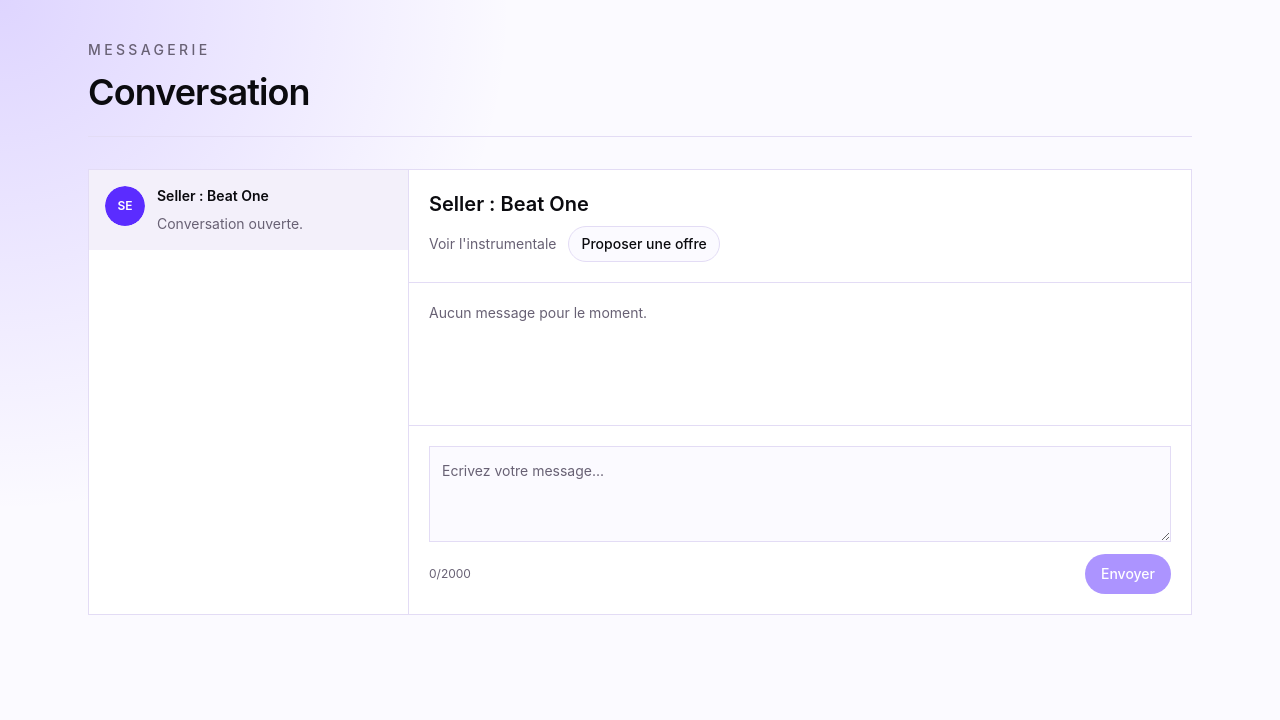
MessagesClient › creates an exclusive offer from a beat conversation
Expected: the heading "Seller : Beat One" is shown, [429,192,589,216]
Click the button "Proposer une offre".
click(644, 244)  # box [568,226,720,262]
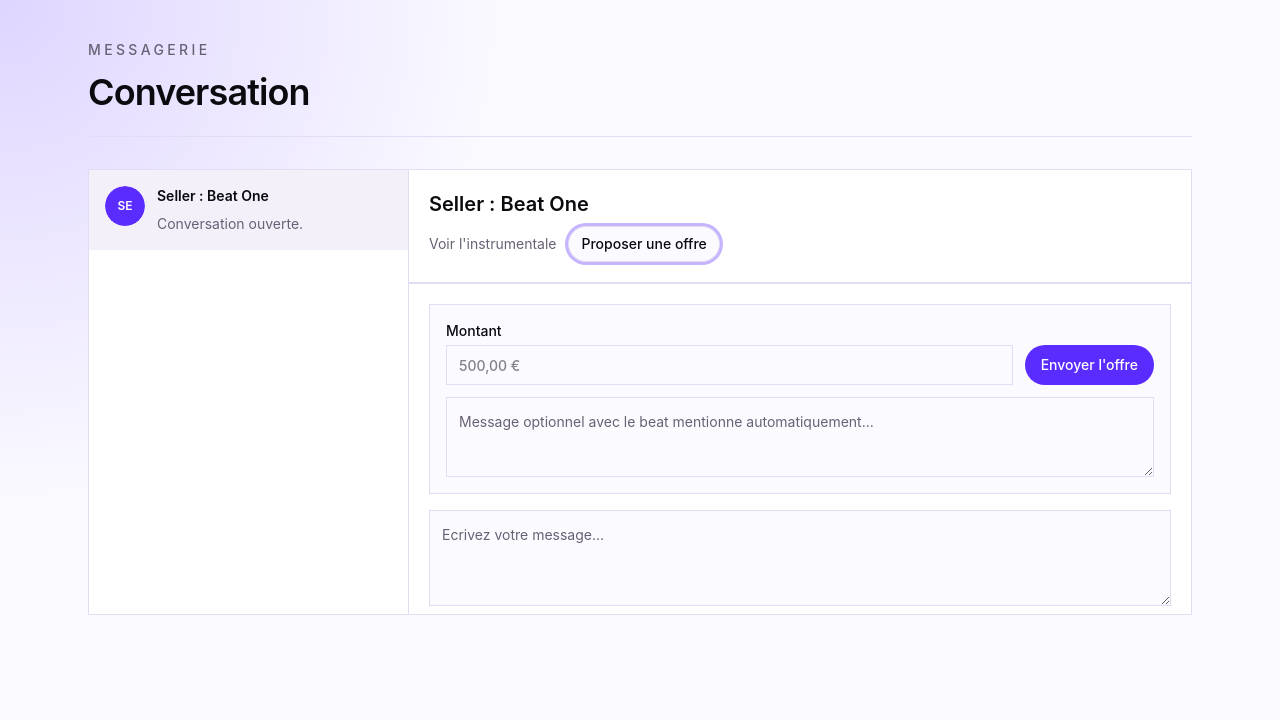
Type "450" into the field labelled "Montant".
click(729, 365); type("450")  # box [446,345,1013,385]
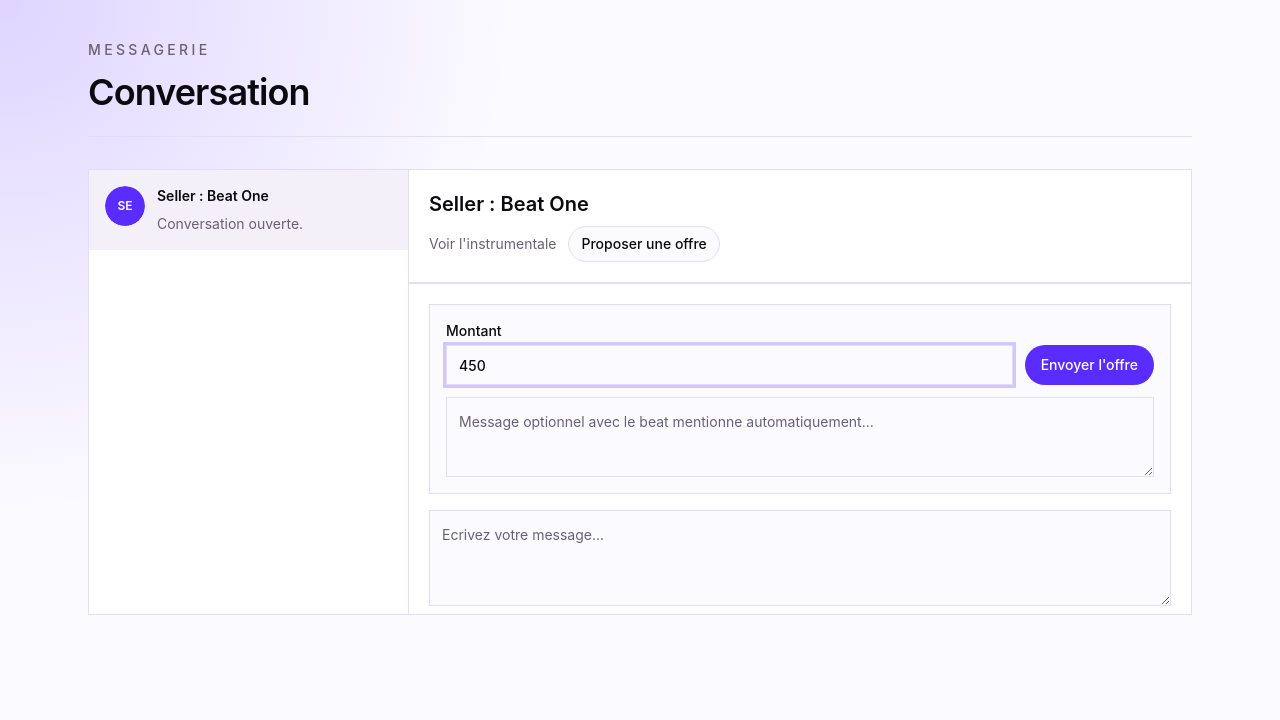
Type "Deal cette semaine" into the text box with placeholder "Message optionnel avec le beat mentionne automatiquement...".
click(800, 437); type("Deal cette semaine")  # box [446,397,1154,477]
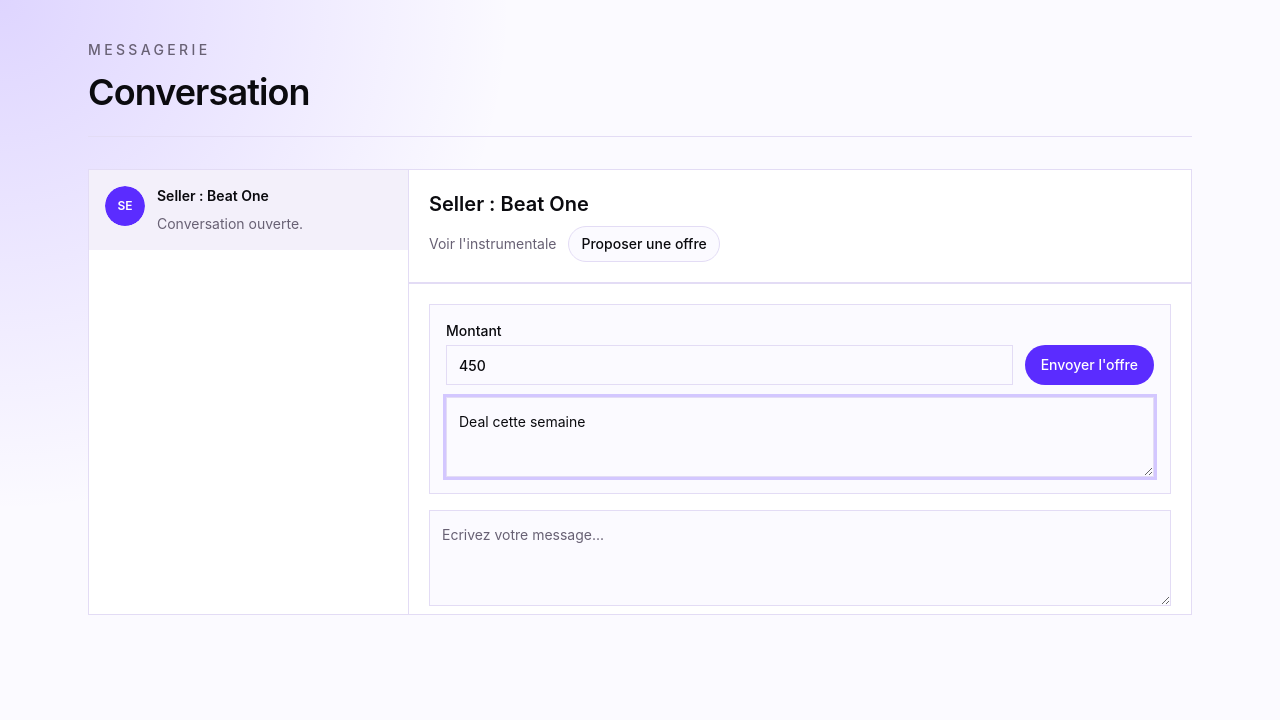
Click the button "Envoyer l'offre".
click(1089, 365)  # box [1025,345,1154,385]
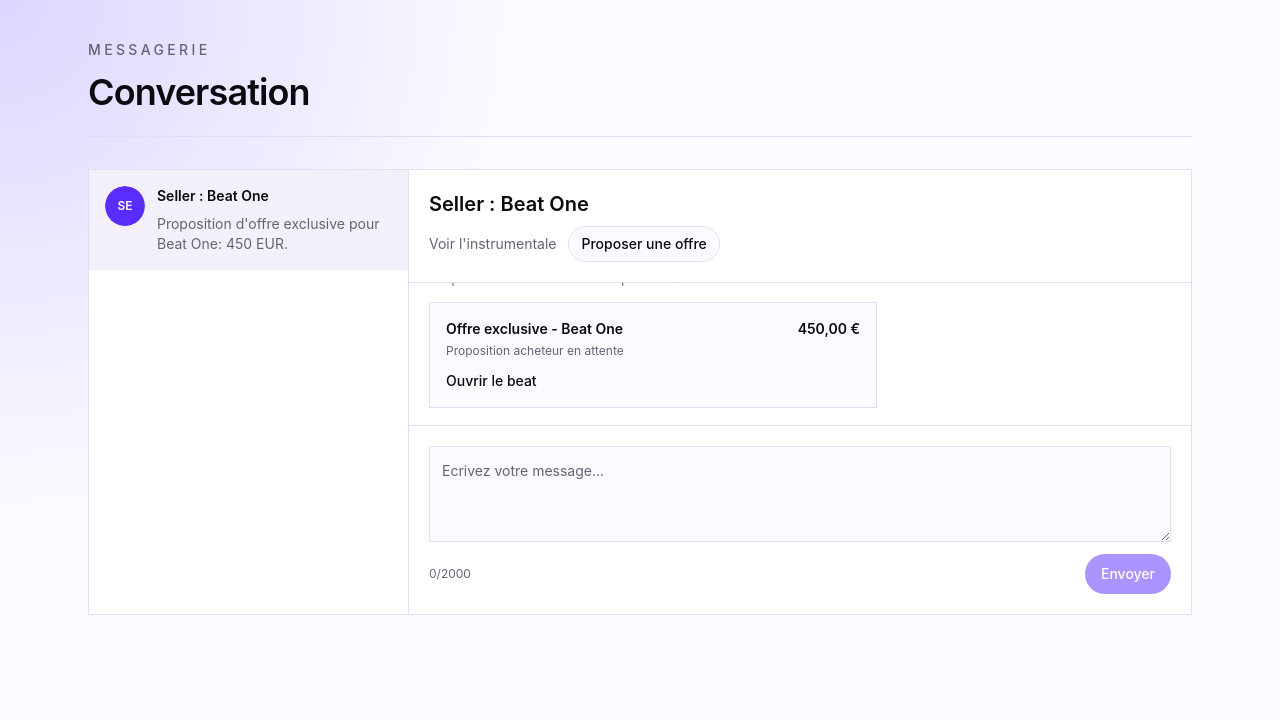
Now the text "Offre exclusive - Beat One" is shown, box [446,319,624,339]
